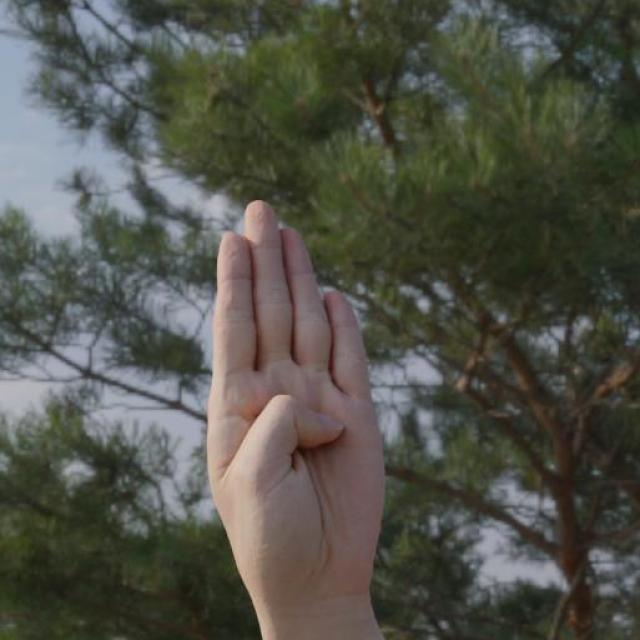B: (202, 192, 388, 618)
